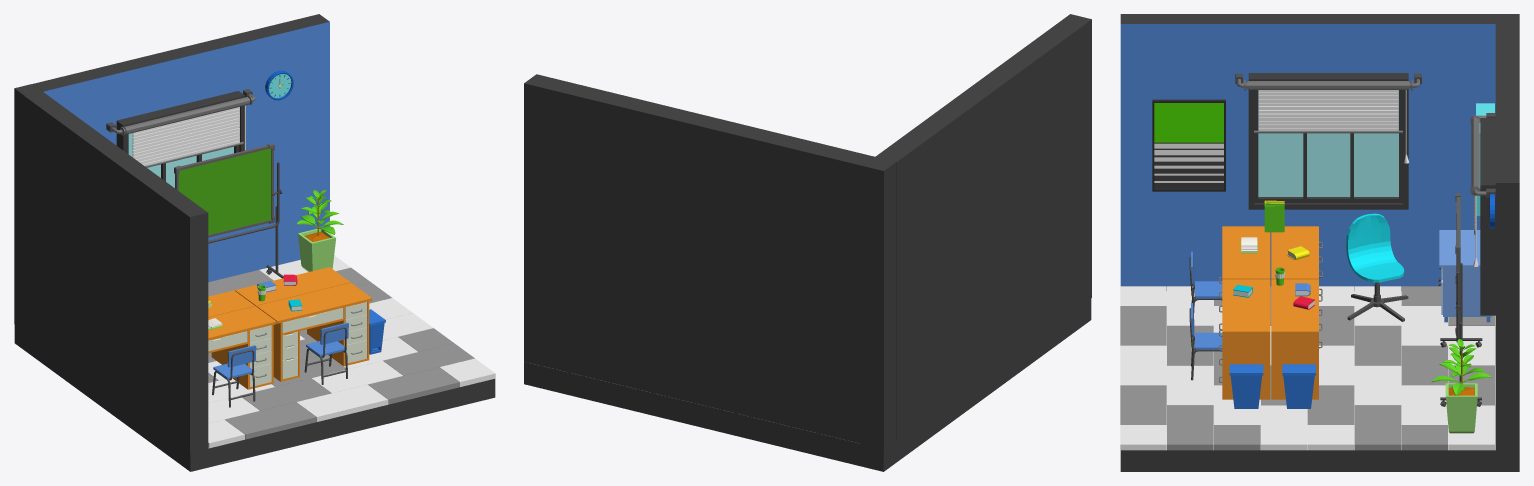
The model's file is cenario-duelo.glb.
3 renders of one model, left to right at view 1: azimuth 30°, elevation 25°; view 2: azimuth 150°, elevation 25°; view 3: azimuth 270°, elevation 25°, orthographic. The views are drawn at different scales.
Visible parts, largest first — view 1: Wall_1a (1), Wall_1a, Floor_Tile_3b, Floor_12a, Window_14b, Board_2c, Table_12c (1), Table_12c, CornerColumn, Table_12c (3), Pot_Rect_1c, Chair_12a (1) (+5 smaller); view 2: Wall_1a, Wall_1a (1), Floor_12a, CornerColumn; view 3: Wall_1a (1), Floor_Tile_3b, Window_14b (1), Wall_1a, Floor_12a, Painting_1b, Table_12c (1), Table_12c (3), Window_14b, Chair_10c, Cabinet_3c, Table_12c (+10 smaller).
Boxes of the visible parts, x1,y1,x2,y2 form: Wall_1a (1): (24,91,208,452); Wall_1a: (33,14,329,282); Floor_Tile_3b: (208,255,495,448); Floor_12a: (14,325,495,471); Window_14b: (106,89,255,187); Board_2c: (174,143,283,278); Table_12c (1): (256,283,372,381); Table_12c: (208,306,276,389); CornerColumn: (14,84,42,331); Table_12c (3): (235,267,350,341); Pot_Rect_1c: (298,228,335,271); Chair_12a (1): (304,322,348,384); Wall_1a: (524,74,874,443); Wall_1a (1): (875,14,1091,440); Floor_12a: (524,298,1091,471); CornerColumn: (862,157,896,449); Wall_1a (1): (1120,14,1495,290); Floor_Tile_3b: (1120,286,1494,450); Window_14b (1): (1235,73,1421,209); Wall_1a: (1495,24,1519,450); Floor_12a: (1120,291,1519,471); Painting_1b: (1152,99,1225,191); Table_12c (1): (1219,279,1270,399); Table_12c (3): (1271,279,1322,399); Window_14b: (1470,113,1495,315); Chair_10c: (1346,213,1408,321); Cabinet_3c: (1438,230,1491,322); Table_12c: (1219,226,1270,329).
Size of the model in its own units: 5.01 by 4 by 5.
Materials: 1 (1 with a texture image).
